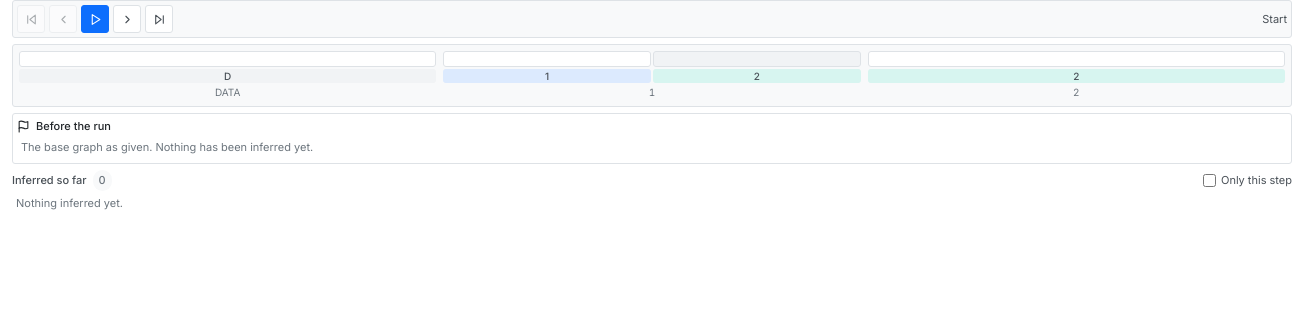
Test: RuleSetExecutionReplay › steps backwards to exactly the earlier state
The image size is (1304, 315).
Click the button with test id "replay-next" at (127, 19), box [113,5,141,33]
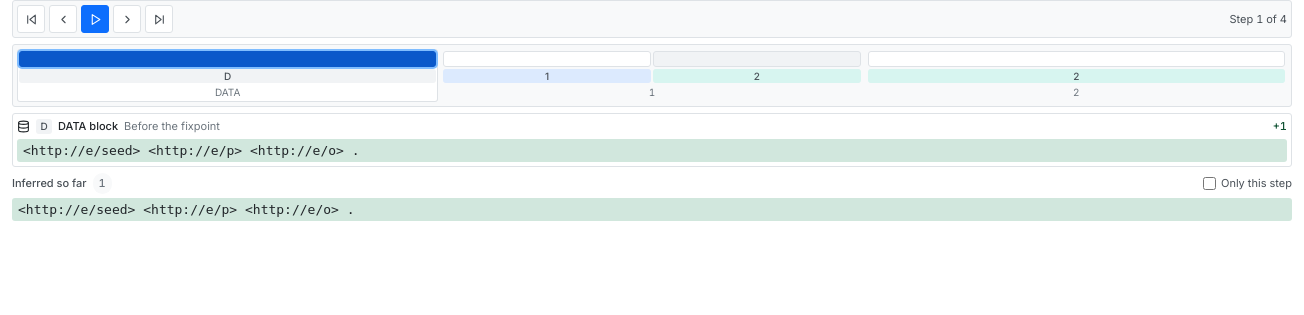
Click the button with test id "replay-next" at (127, 19), box [113,5,141,33]
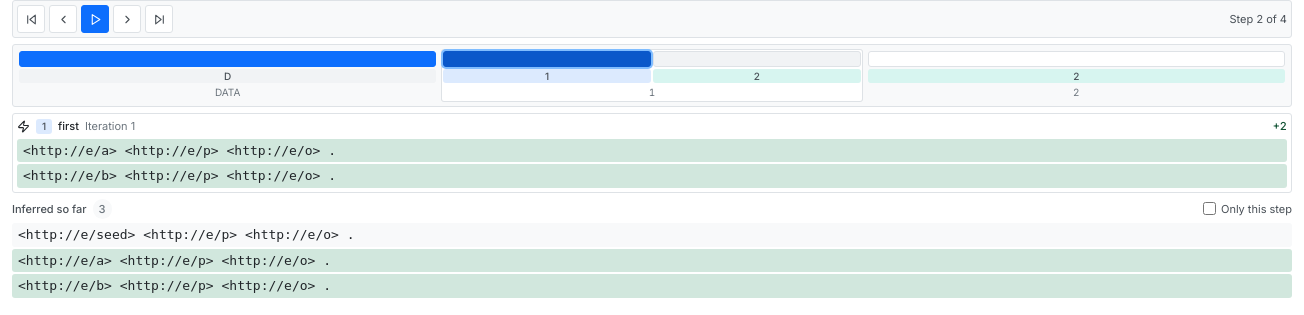
Click the button with test id "replay-next" at (127, 19), box [113,5,141,33]
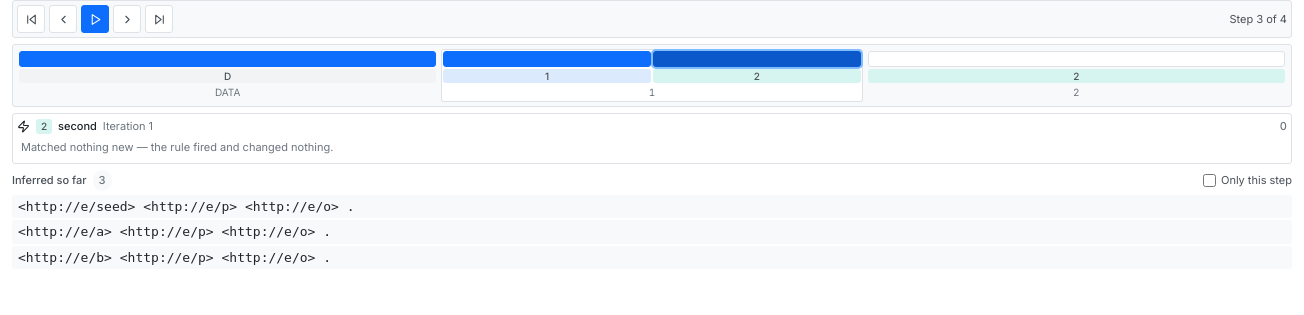
Click the button with test id "replay-next" at (127, 19), box [113,5,141,33]
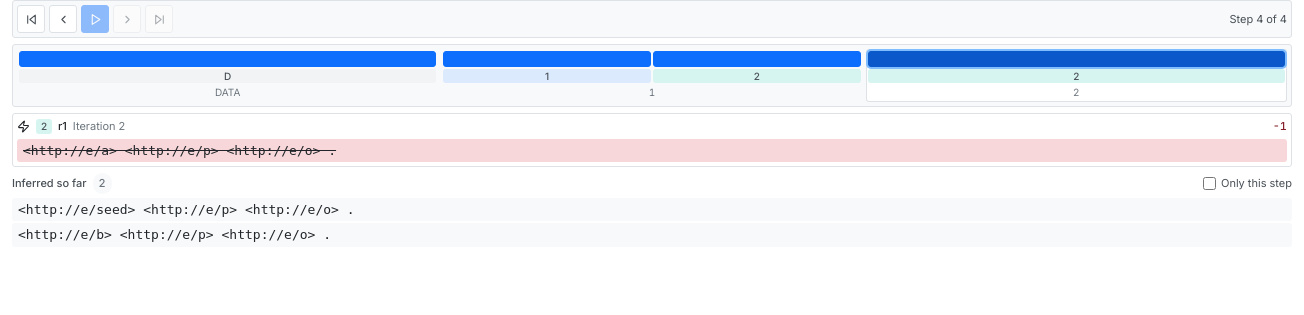
Click the button with test id "replay-prev" at (63, 19), box [49,5,77,33]
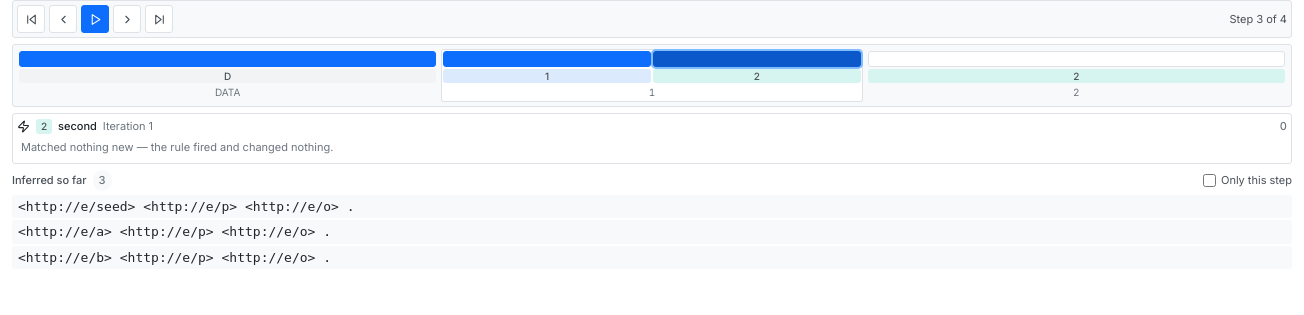
Click the button with test id "replay-prev" at (63, 19), box [49,5,77,33]
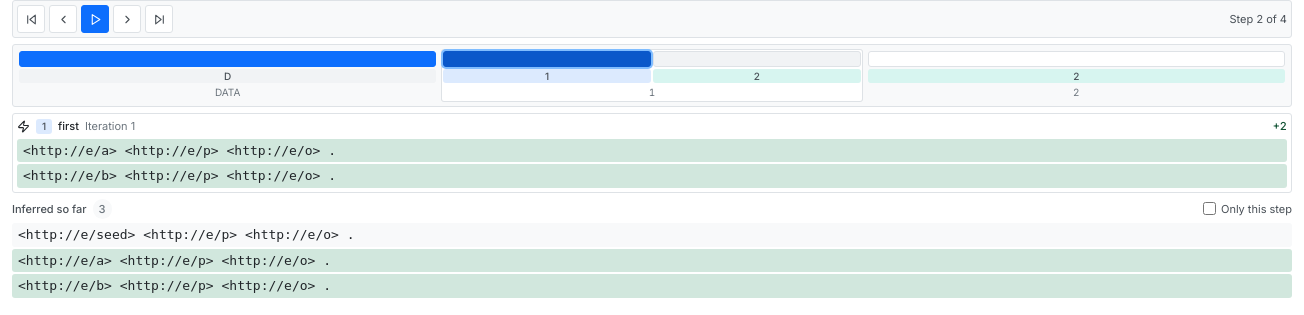
Check: the text with test id "replay-position" reads "Step 2 of 4", box [1230,12,1287,26]
